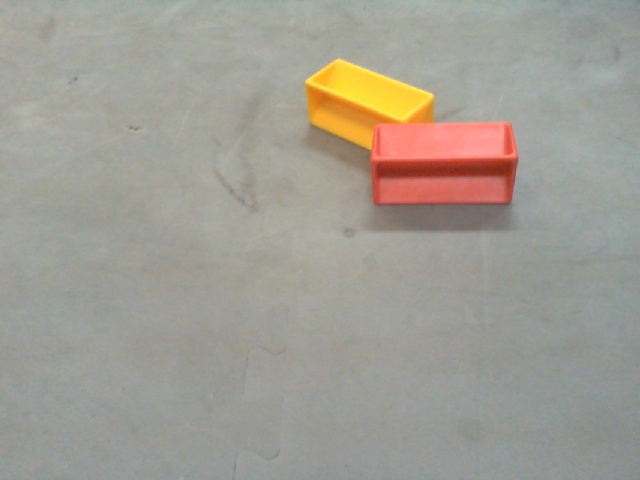RedSample: (369, 120, 519, 205)
YellowSample: (303, 56, 436, 157)
